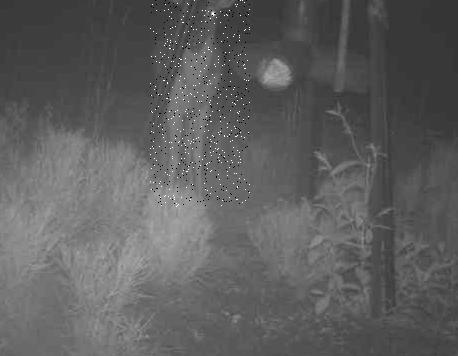Deer: (150, 0, 250, 207)
